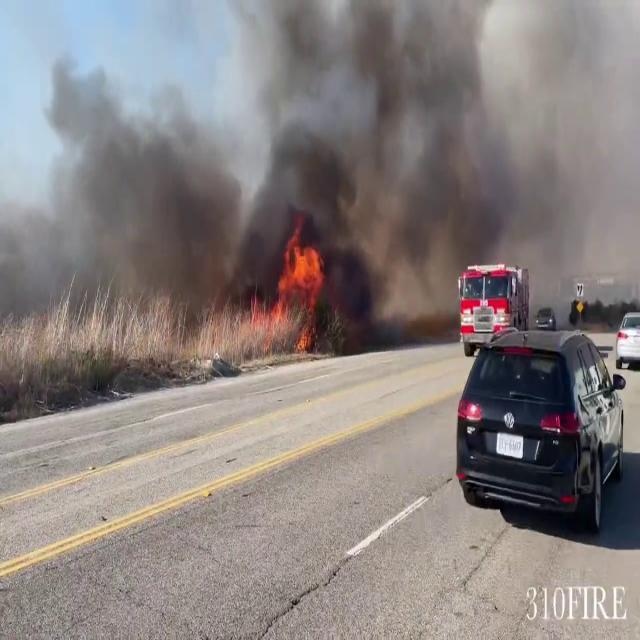Fire: (246, 228, 328, 348)
Smoke: (210, 0, 639, 316), (0, 39, 261, 339)
